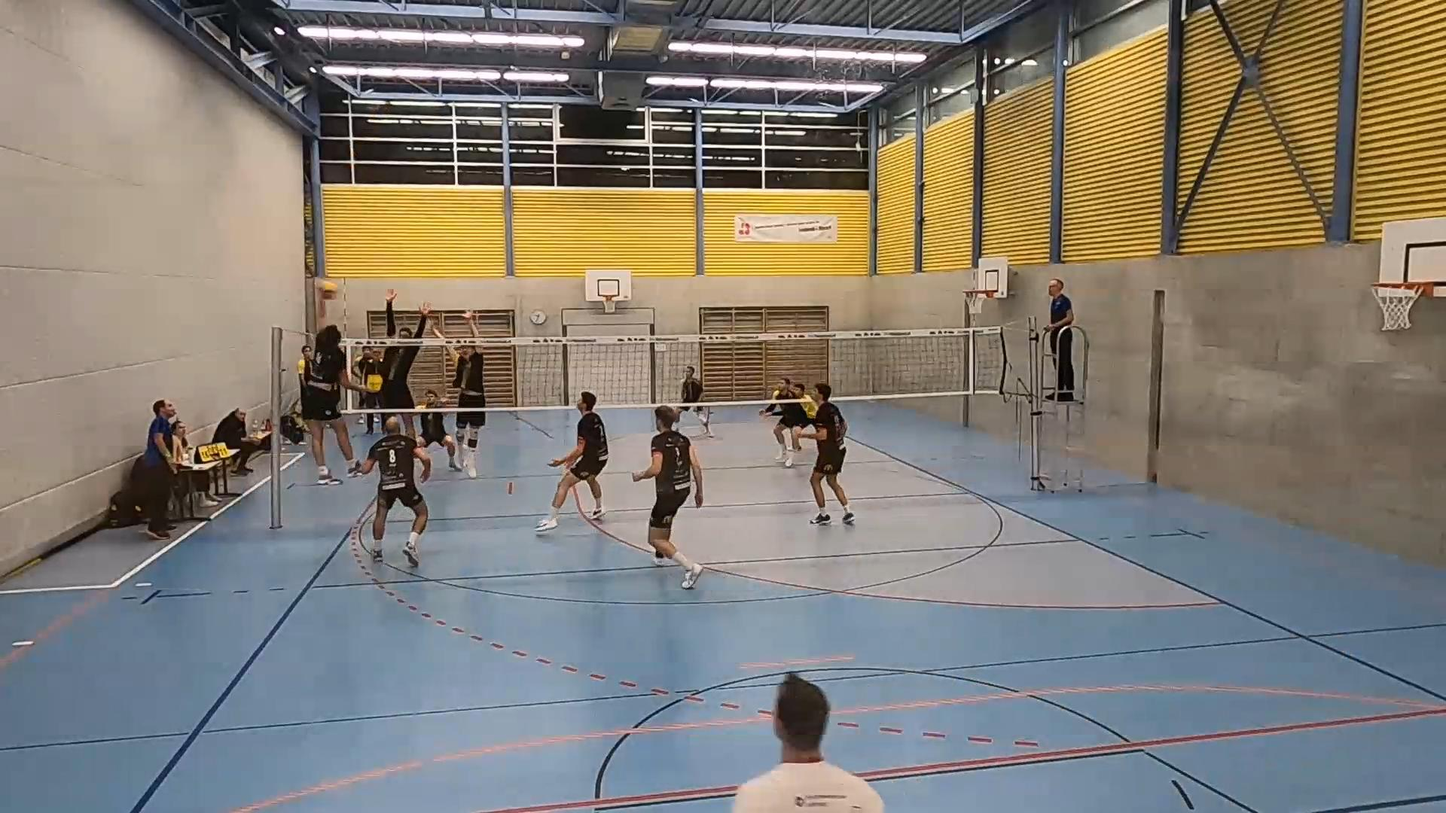Attack: (291, 296, 380, 484)
Block: (427, 295, 500, 484), (372, 289, 428, 467)
Player: (732, 674, 884, 812), (632, 406, 703, 589), (362, 416, 430, 566), (535, 392, 607, 532), (800, 382, 853, 525), (770, 382, 816, 467), (418, 389, 461, 470), (759, 376, 793, 465), (679, 366, 712, 437)
ball: (316, 279, 341, 295)
